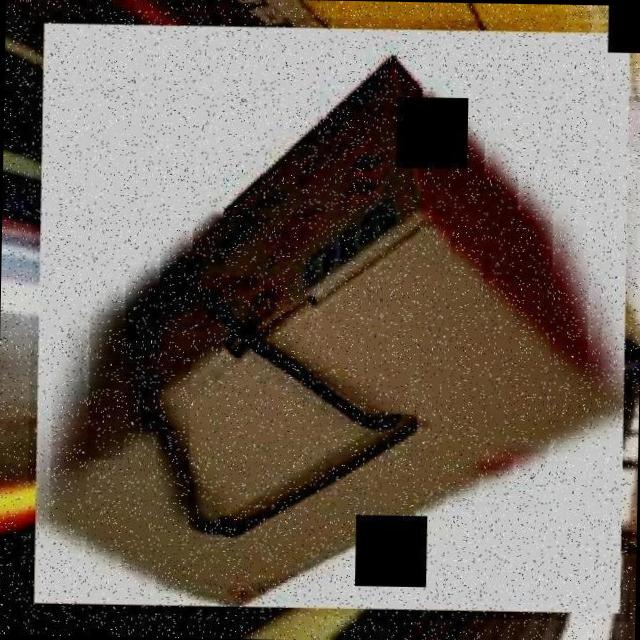box: (25, 13, 640, 621)
